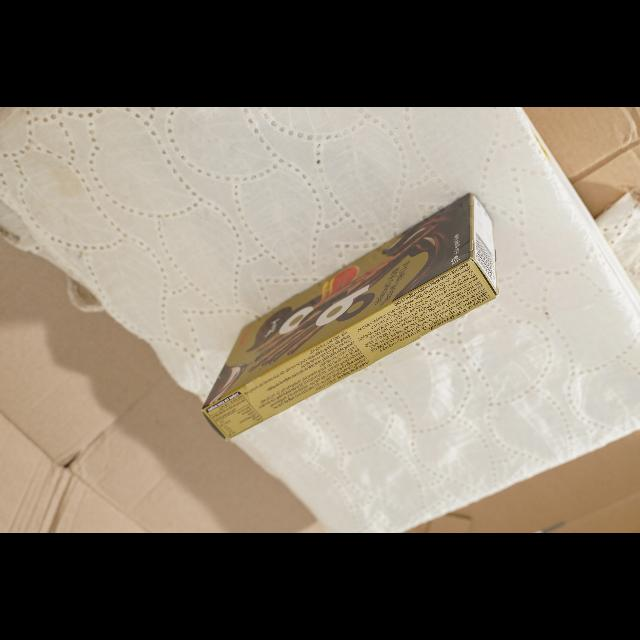banh_toppo_socola: (203, 195, 497, 439)
